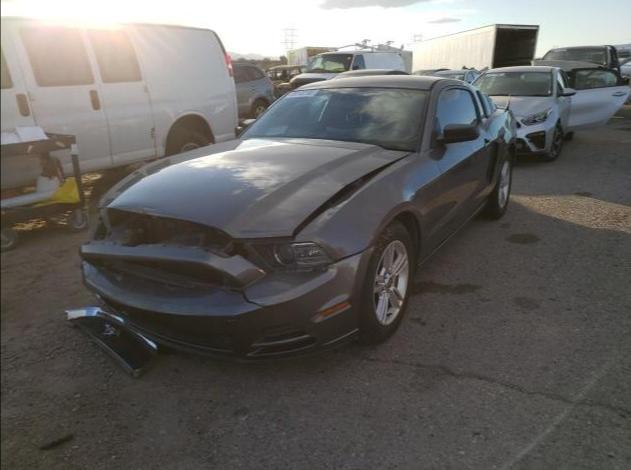Broken part: (78, 206, 374, 363), (289, 154, 407, 243)
Dent: (115, 204, 161, 215)
Missing part: (105, 209, 233, 251)
Scratch: (230, 300, 265, 316)
